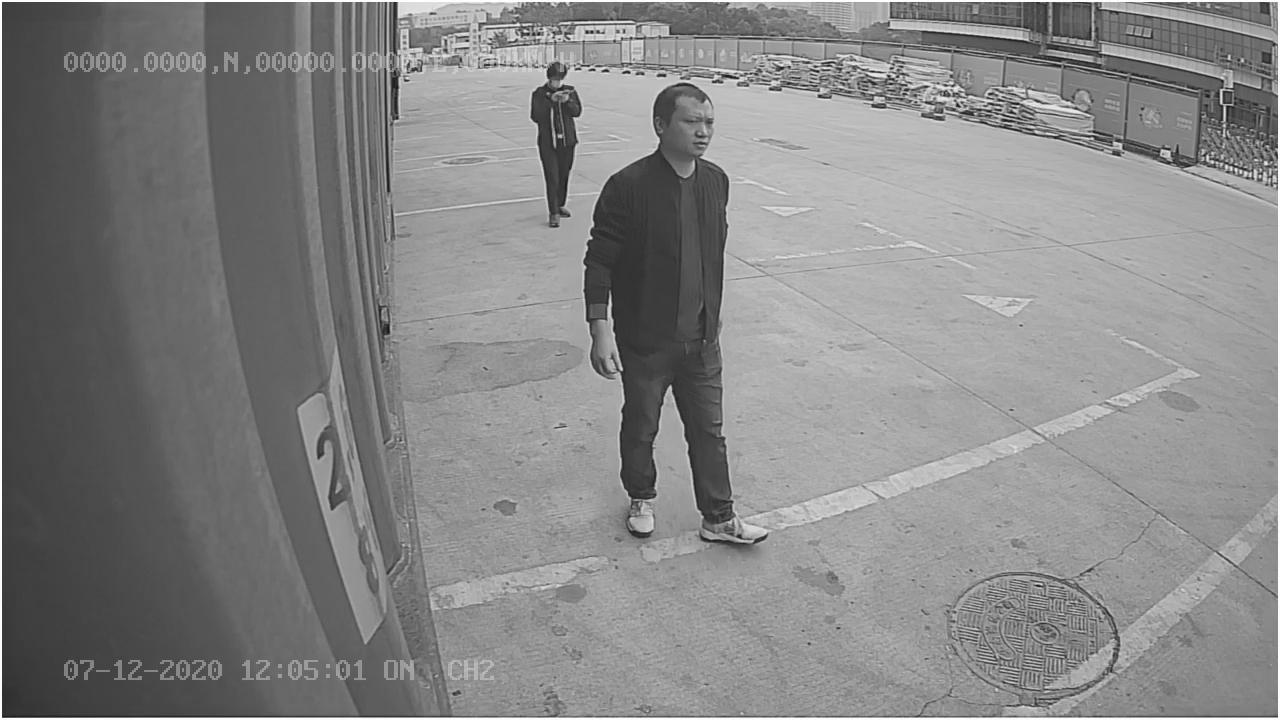person: (582, 78, 772, 549)
